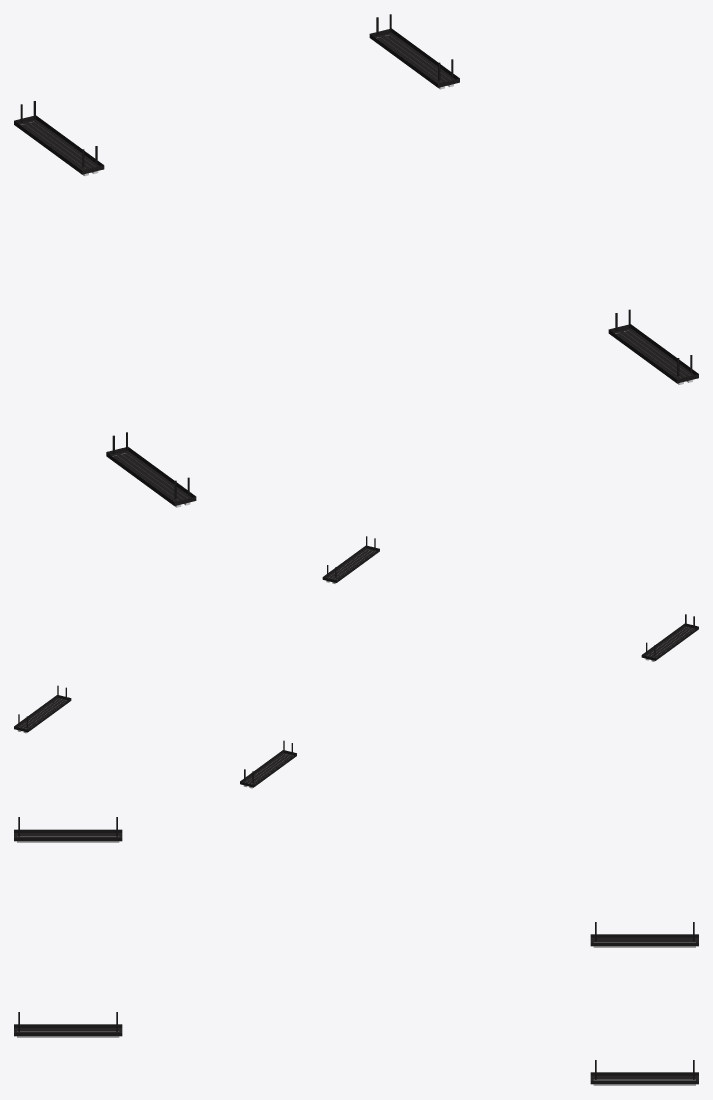
Rendered from M_Tdeng01.FBX.
The picture shows the model from 3 angles, top to bottom: view 1: azimuth 30°, elevation 25°; view 2: azimuth 150°, elevation 25°; view 3: azimuth 270°, elevation 25°; orthographic projection. The views are drawn at different scales.
Parts seen in each view (by area): view 1: M_Tdeng01_01; view 2: M_Tdeng01_01; view 3: M_Tdeng01_01, M_Tdeng01_02.
Boxes of the visible parts, x1=… form: M_Tdeng01_01: x1=14, y1=14, x2=698, y2=505; M_Tdeng01_01: x1=14, y1=536, x2=698, y2=787; M_Tdeng01_01: x1=14, y1=817, x2=698, y2=1084; M_Tdeng01_02: x1=17, y1=836, x2=695, y2=1085.
Bounding box in the file's own units: 19.73 × 0.748 × 22.71.
